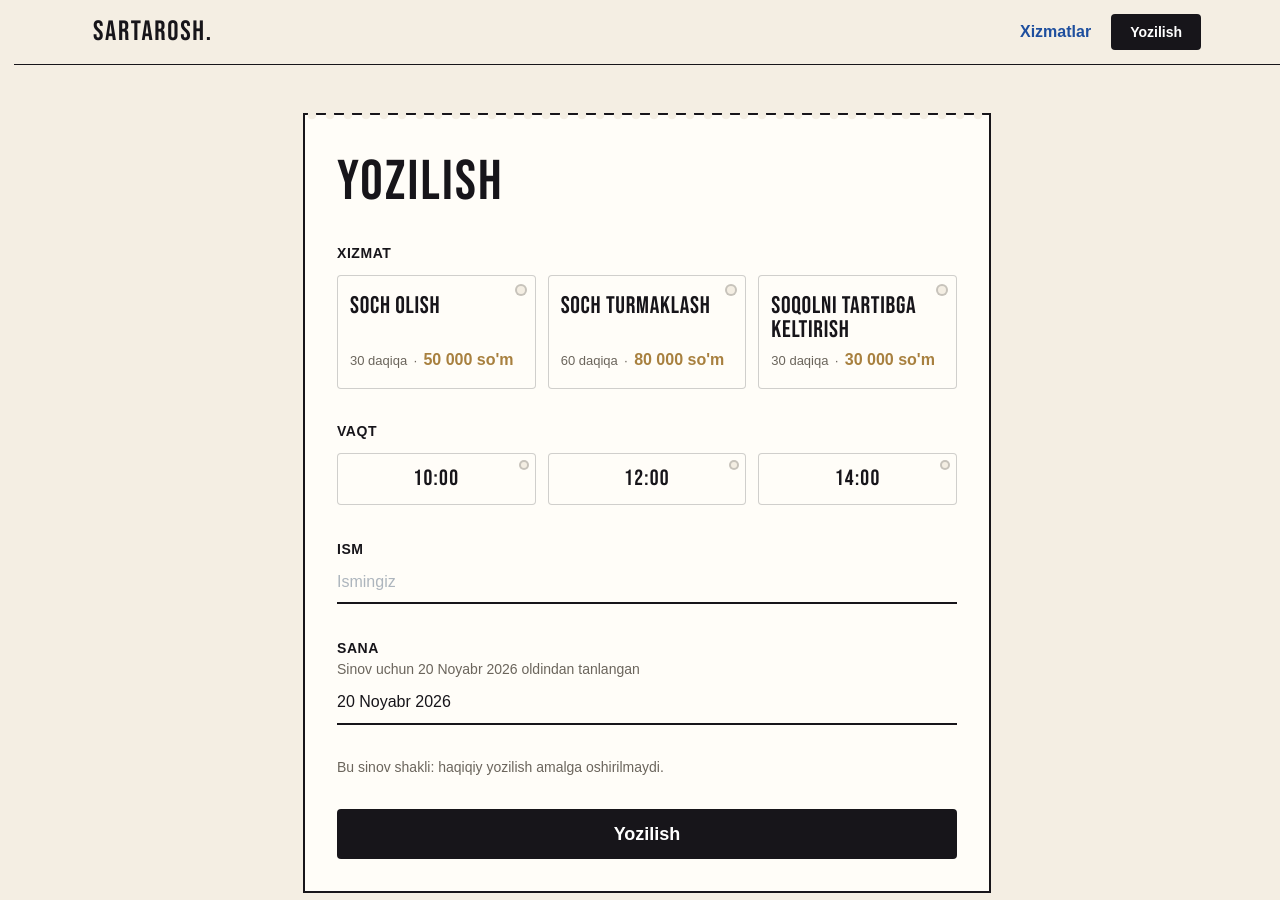
Test: check 2a: no time -> stays on form with Vaqtni tanlang
Click the radio button with test id "service-S01".
click(436, 332)  # box [337,275,536,390]
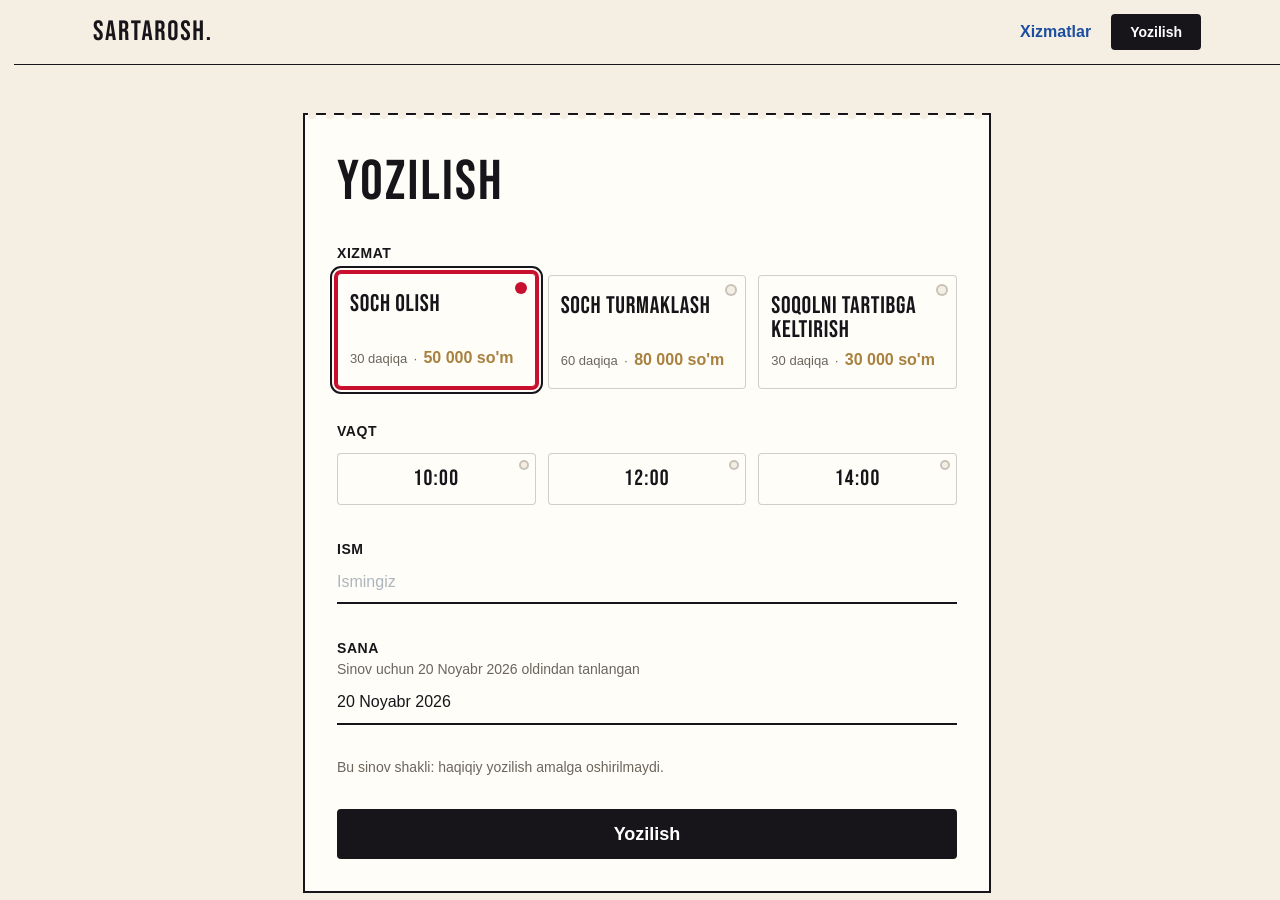
Type "Sinovchi 01" into the field with test id "name-input".
click(647, 583); type("Sinovchi 01")  # box [337,562,957,604]
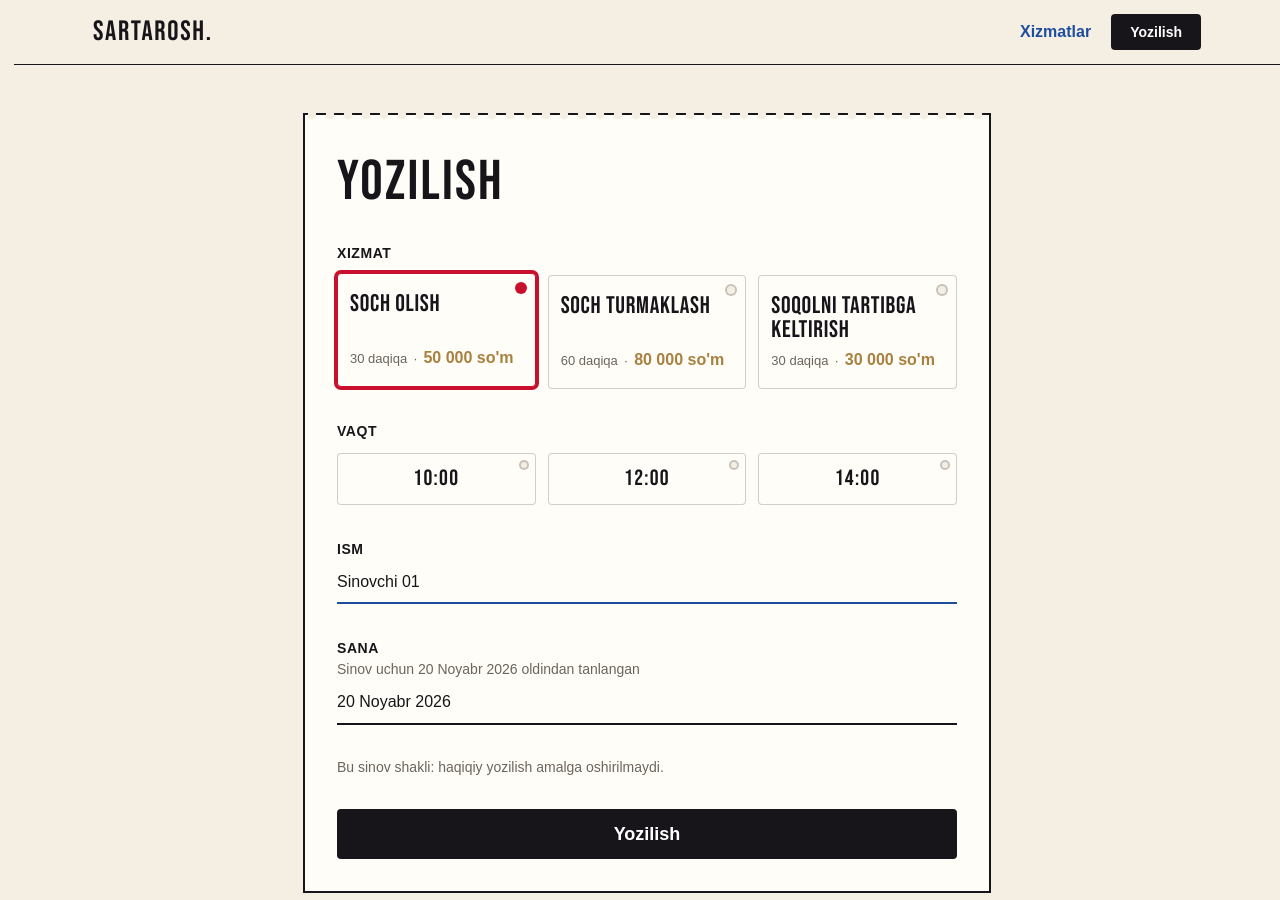
Click the button with test id "submit-booking".
click(647, 834)  # box [337,809,957,859]
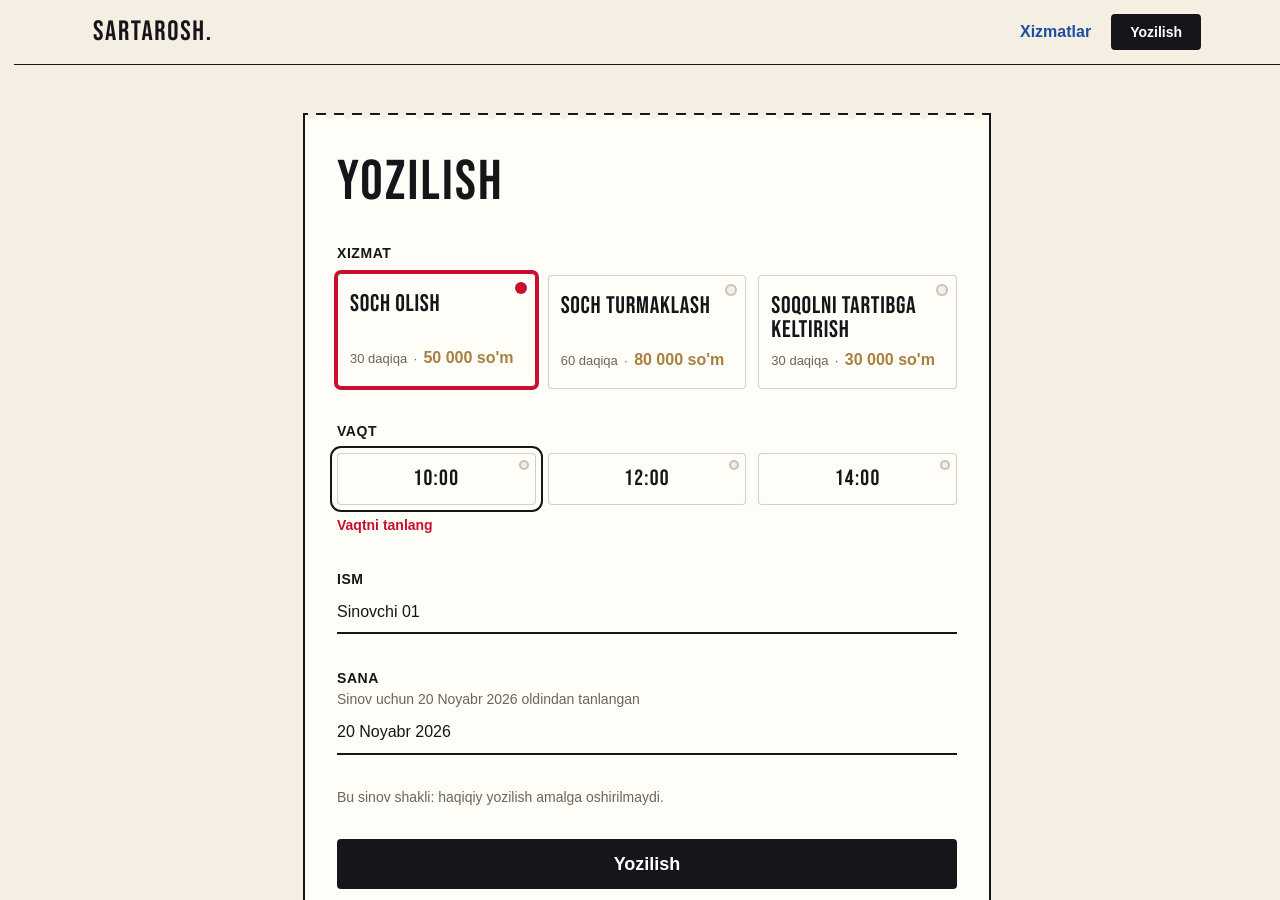
Expected: the text "Vaqtni tanlang" is shown, [337,517,433,533]
